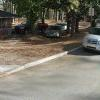Car: (79, 21, 100, 56)
